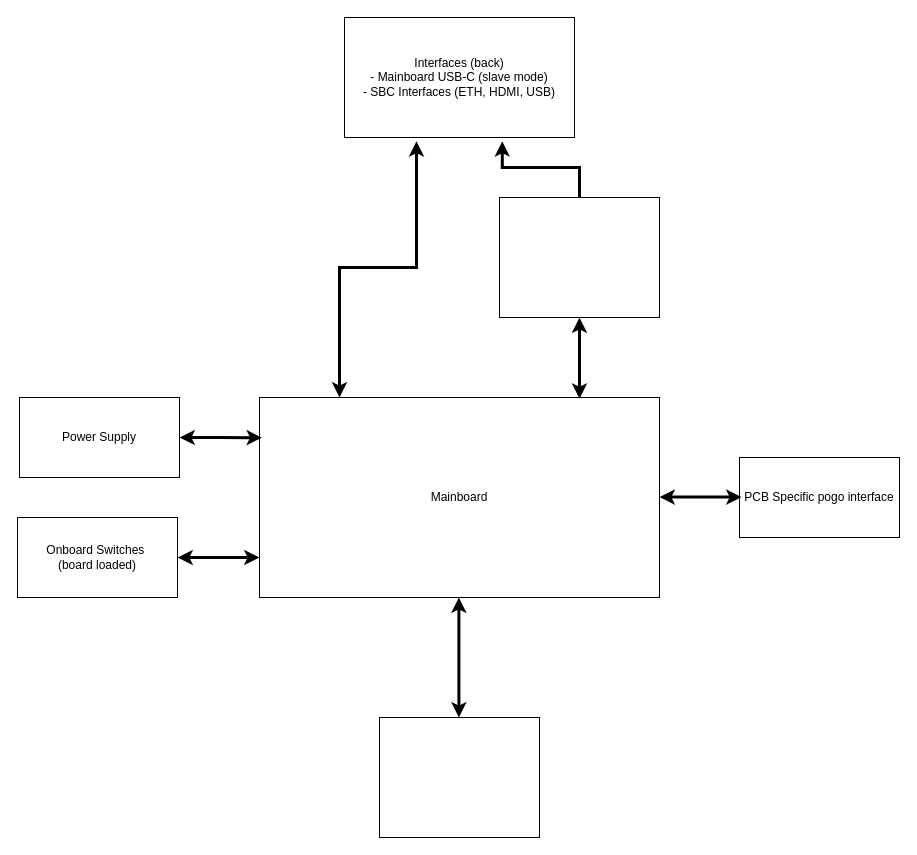
This 917x855 diagram has some shape labels left out. The shapes that lost their labels are listed below. From the top down, each one's box as (x1, y1, x2, y2) in pixels, then its label:
(498, 196, 660, 318): Integrated SBC controller
(378, 716, 540, 838): I/O Board (front) Status Leds Switches
